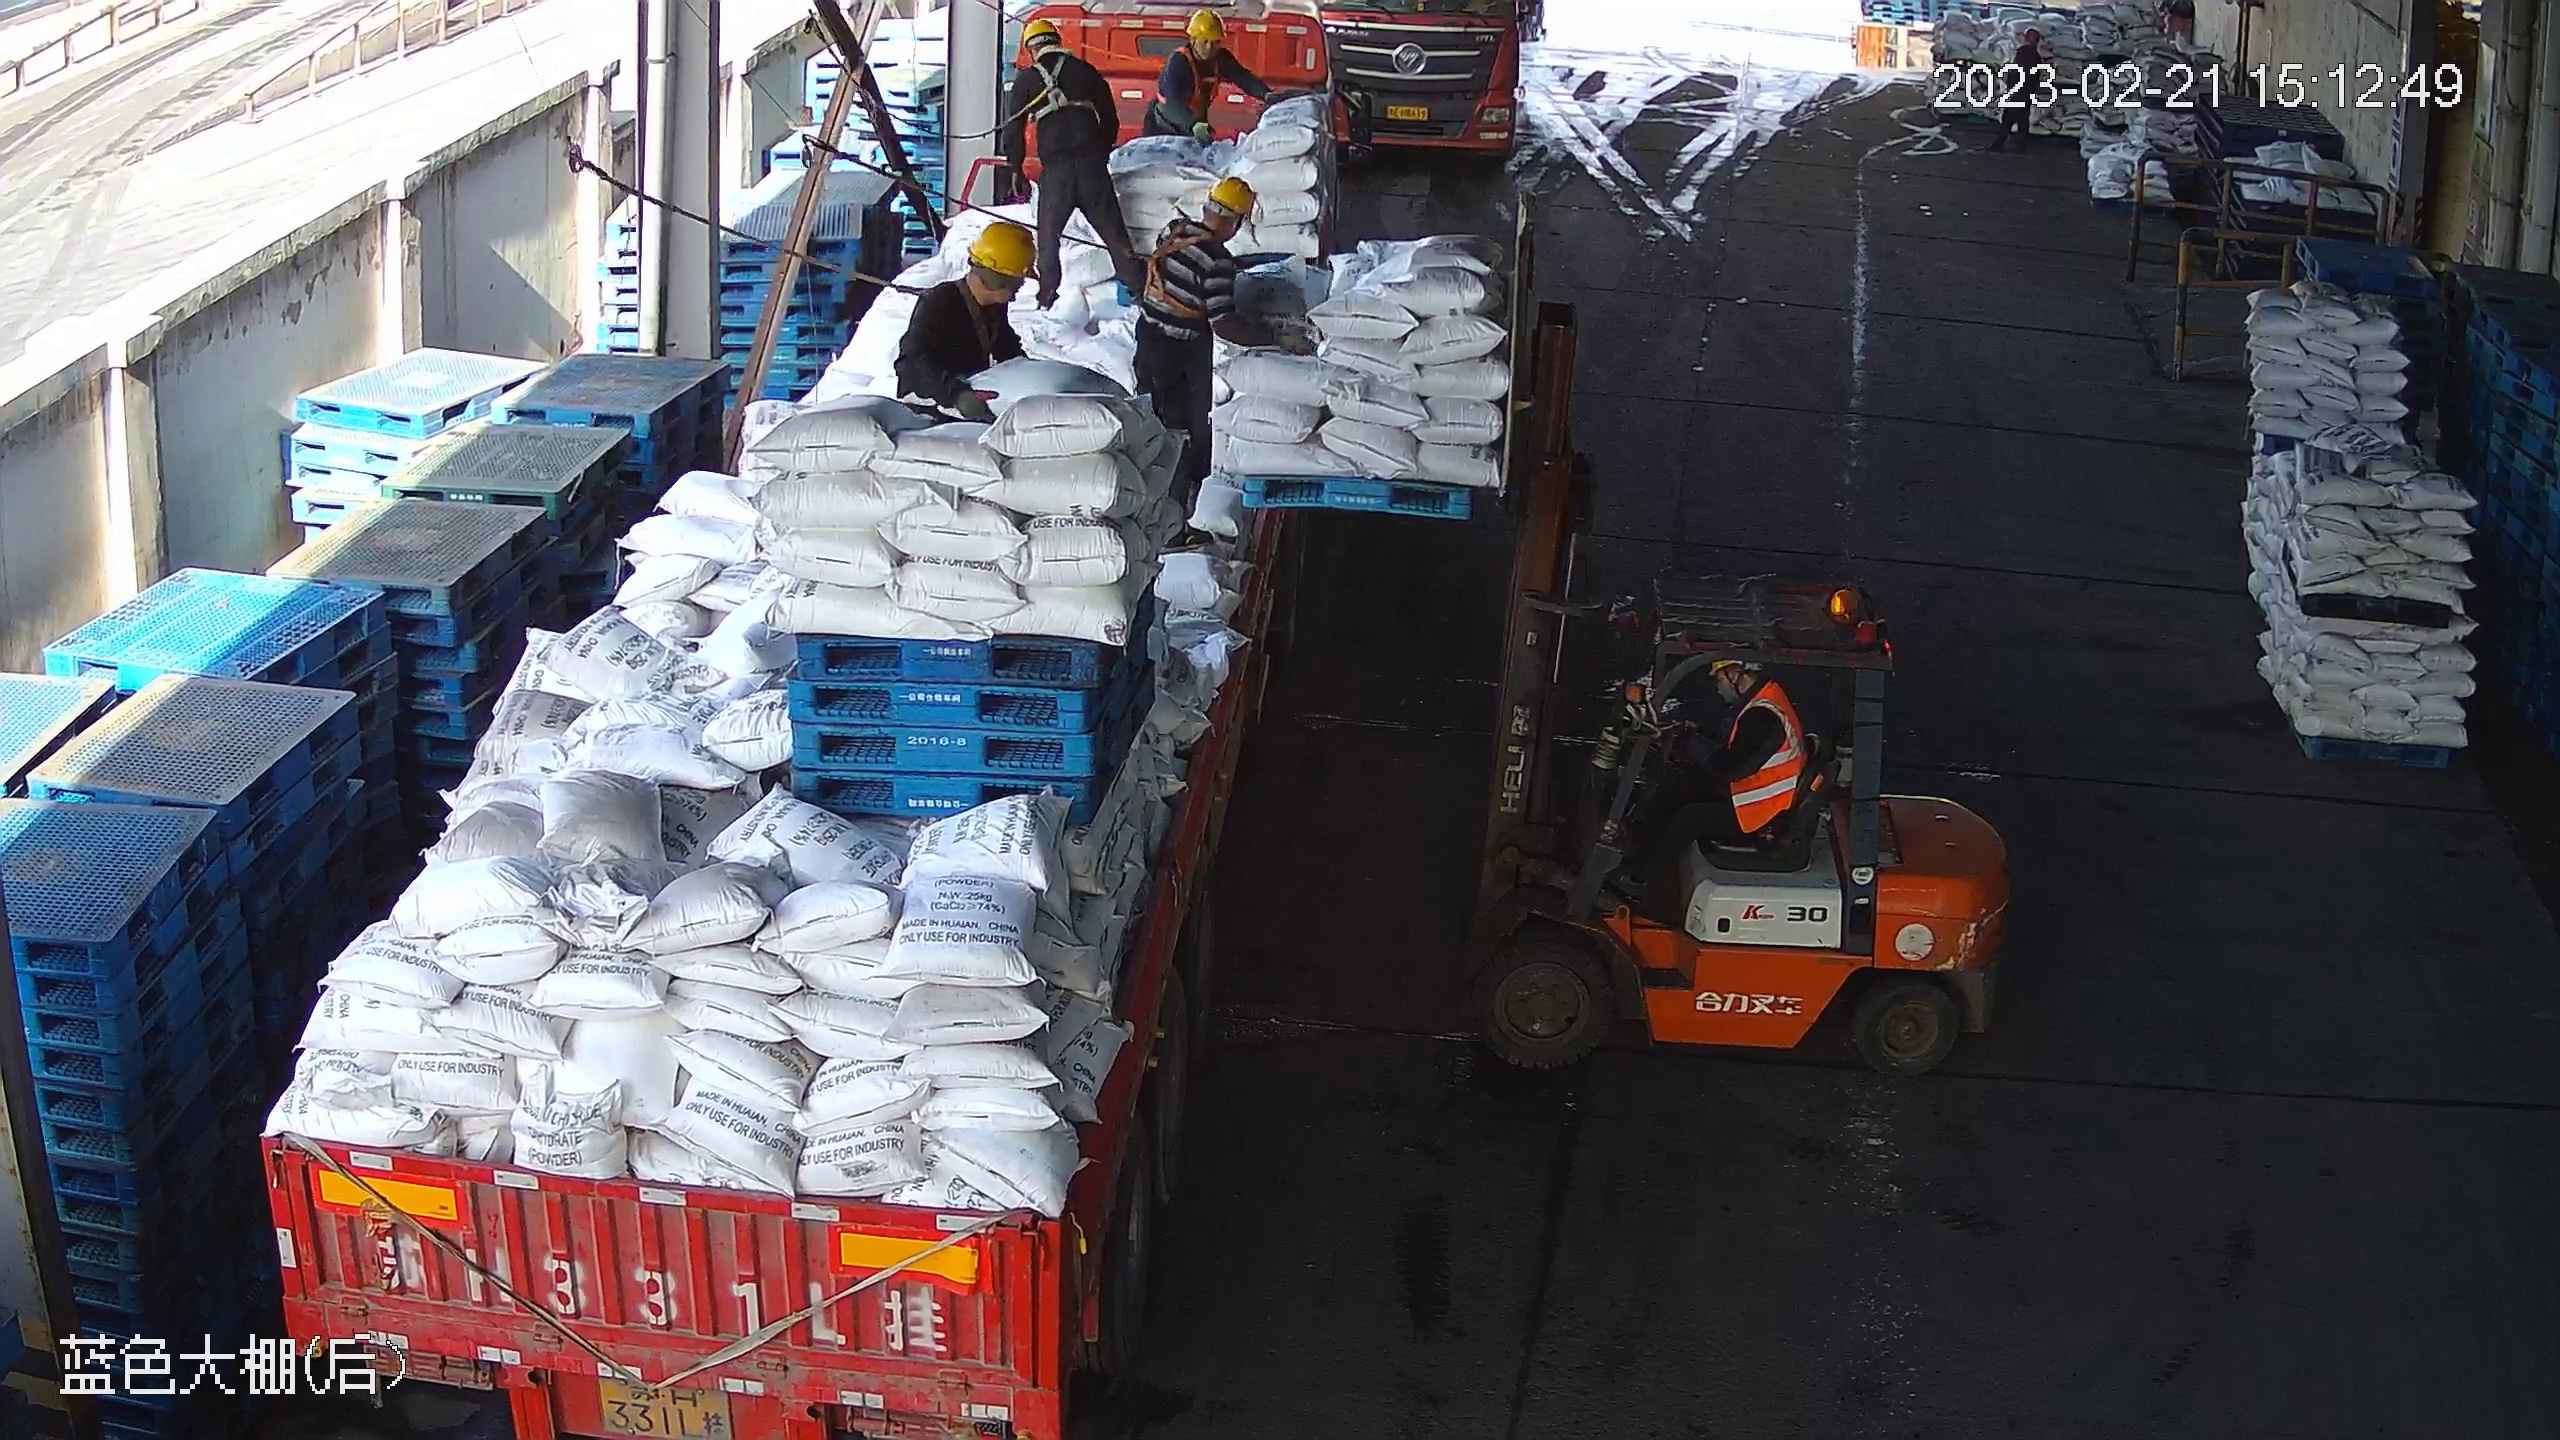belt: (1137, 220, 1214, 321), (1027, 56, 1103, 125), (953, 278, 1001, 374), (1155, 46, 1219, 111)
head: (910, 222, 1044, 332), (1151, 177, 1255, 270), (1008, 20, 1104, 95), (1164, 9, 1237, 77)
helmet: (967, 221, 1042, 281), (1209, 176, 1254, 218), (1185, 9, 1226, 41), (1022, 20, 1061, 46)
people: (1131, 176, 1316, 555), (1603, 659, 1807, 899), (1001, 19, 1146, 309), (1141, 9, 1291, 149)
truck: (256, 1, 1374, 1440), (1319, 1, 1517, 151)
